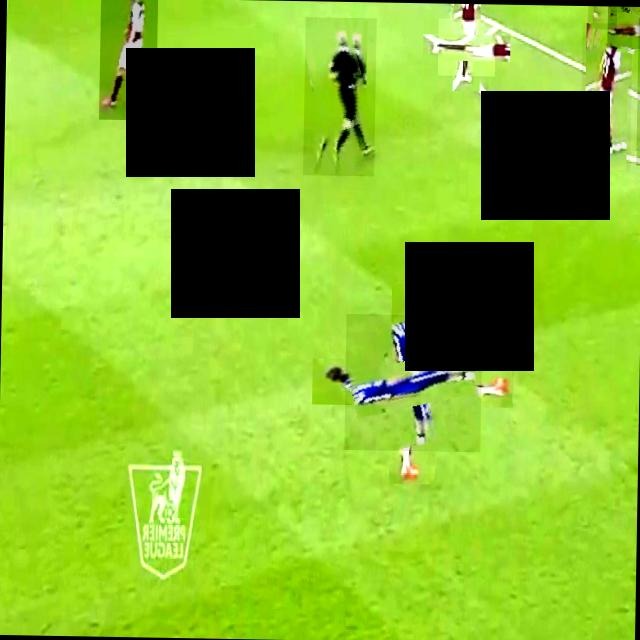referee: (302, 16, 376, 175)
soccer-player: (343, 313, 481, 451), (578, 21, 632, 170), (97, 0, 156, 119), (436, 17, 494, 75), (605, 5, 640, 48), (634, 16, 640, 164), (586, 4, 616, 28)
